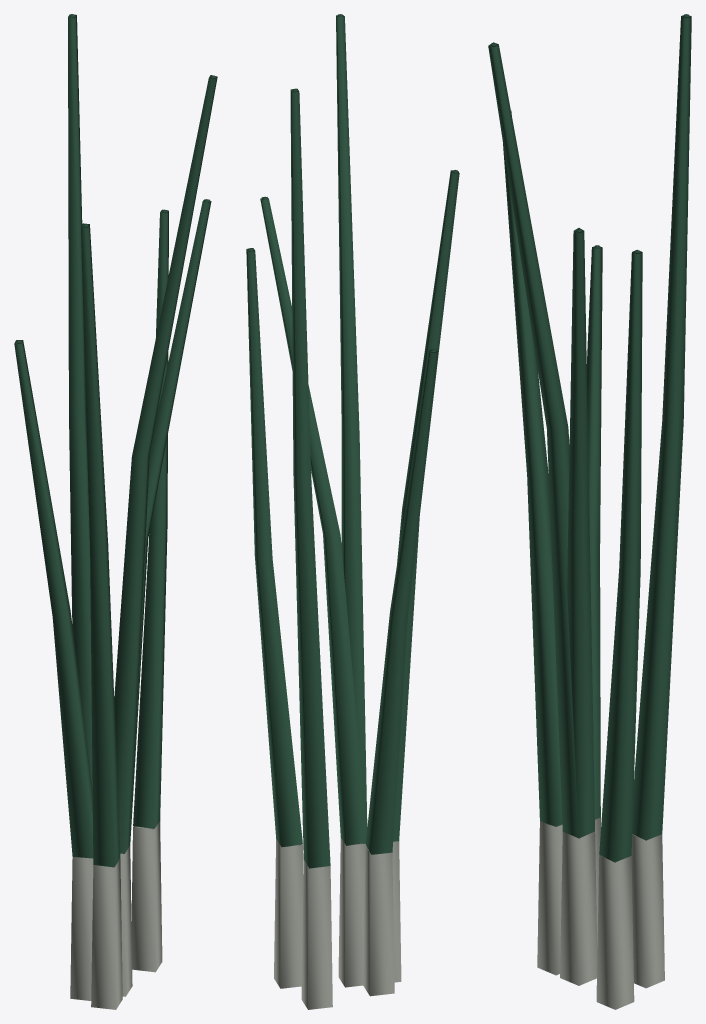
Rendered from cebolla_blanca.glb.
The picture shows the model from 3 angles, left to right: view 1: azimuth 30°, elevation 25°; view 2: azimuth 150°, elevation 25°; view 3: azimuth 270°, elevation 25°; orthographic projection. The views are drawn at different scales.
Visible parts, largest first — view 1: cebolla_blanca; view 2: cebolla_blanca; view 3: cebolla_blanca.
Boxes of the visible parts, x1,y1,x2,y2 form: cebolla_blanca: (14,14,217,1009); cebolla_blanca: (246,14,459,1009); cebolla_blanca: (488,14,691,1009).
Bounding box in the file's own units: 0.1667 × 0.7911 × 0.151.
